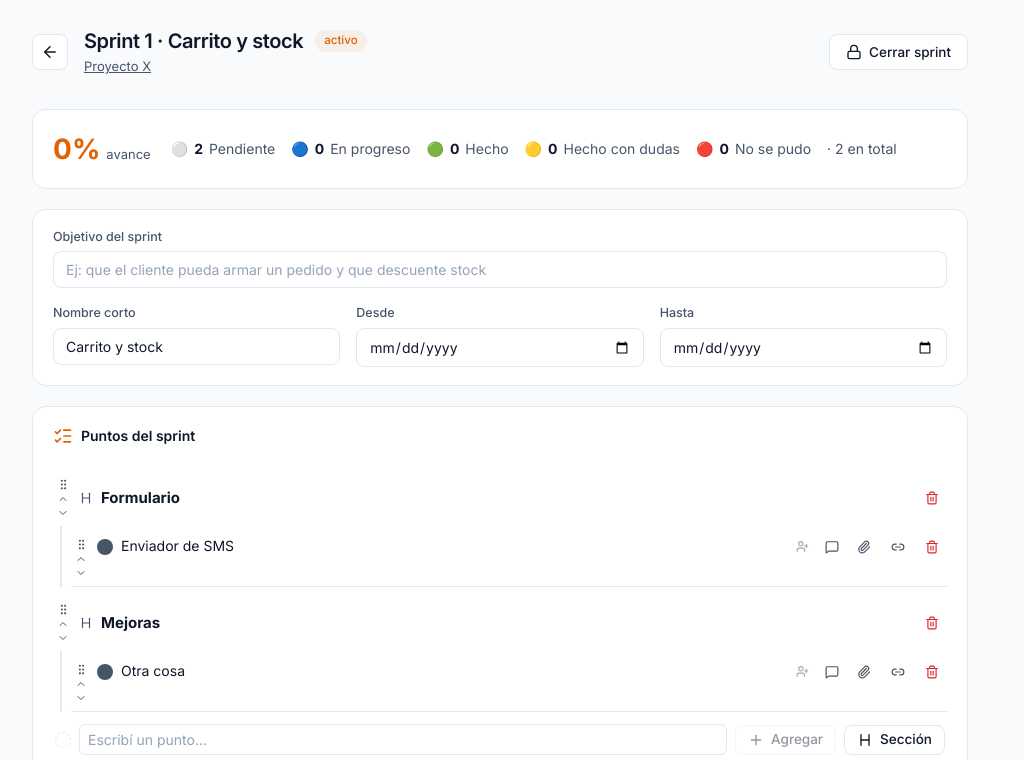
Test: SprintDetalle — secciones › borrar una sección elimina solo el título: sus puntos quedan
Expected: the text "Formulario" is shown, x1=101 y1=488 x2=180 y2=507
Click the button titled "Eliminar sección" in the row of "Formulario" at (932, 498), box x1=919 y1=485 x2=945 y2=511
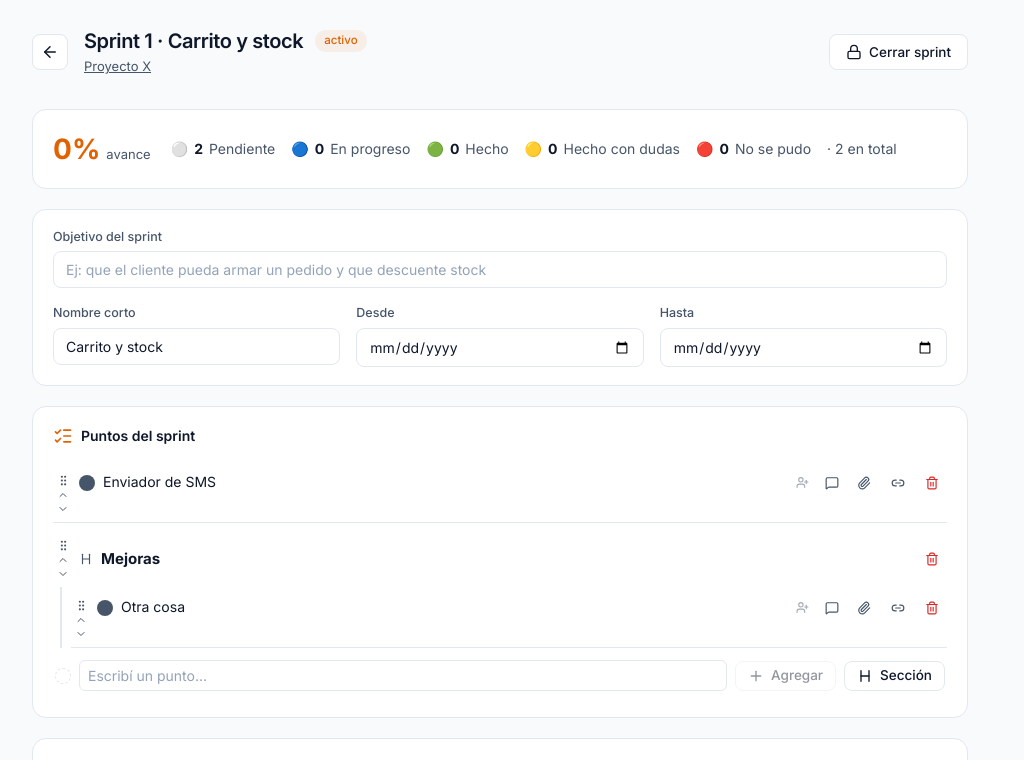
Expected: the text "Enviador de SMS" is shown, x1=103 y1=473 x2=216 y2=490
Now the text "Formulario" is gone
